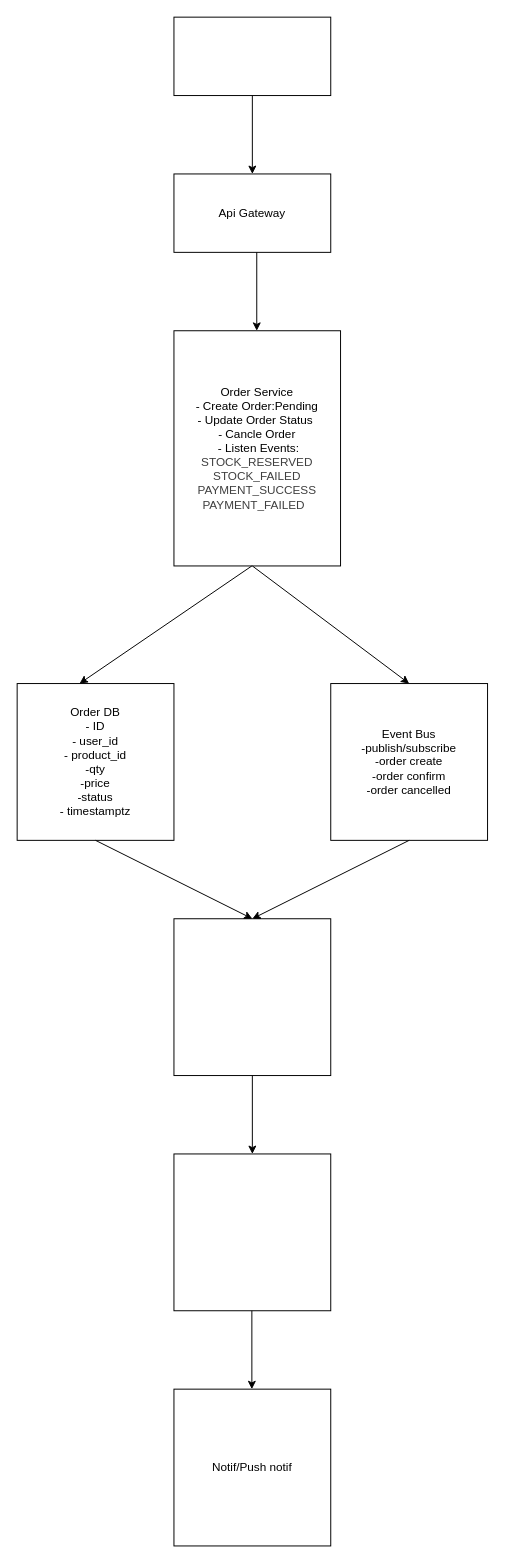
Some shapes in this 505 by 1563 pixel diagram are drawn without their labels. Each missing label, with the centre of its shape:
Inventory Service Reserve strok EVENT: stock_reserved Event: stock_failed: point (252, 997)
payment service charge payment event: payment success event payment failed: point (252, 1232)
User/Client: point (252, 56)
